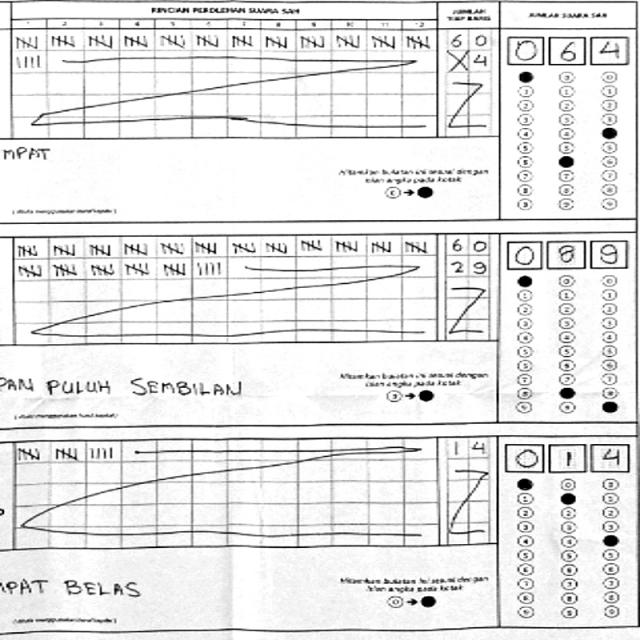Suara: (502, 439, 634, 477), (503, 33, 633, 69), (503, 236, 633, 272)
